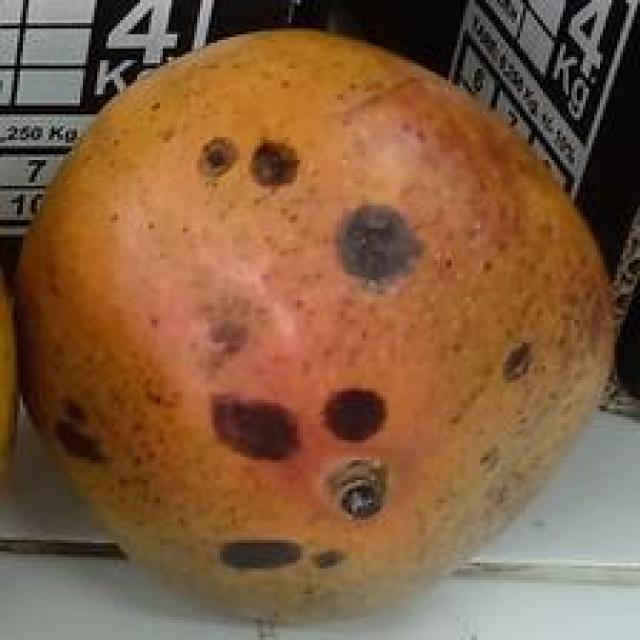Bad_Mango: (21, 31, 614, 617)
